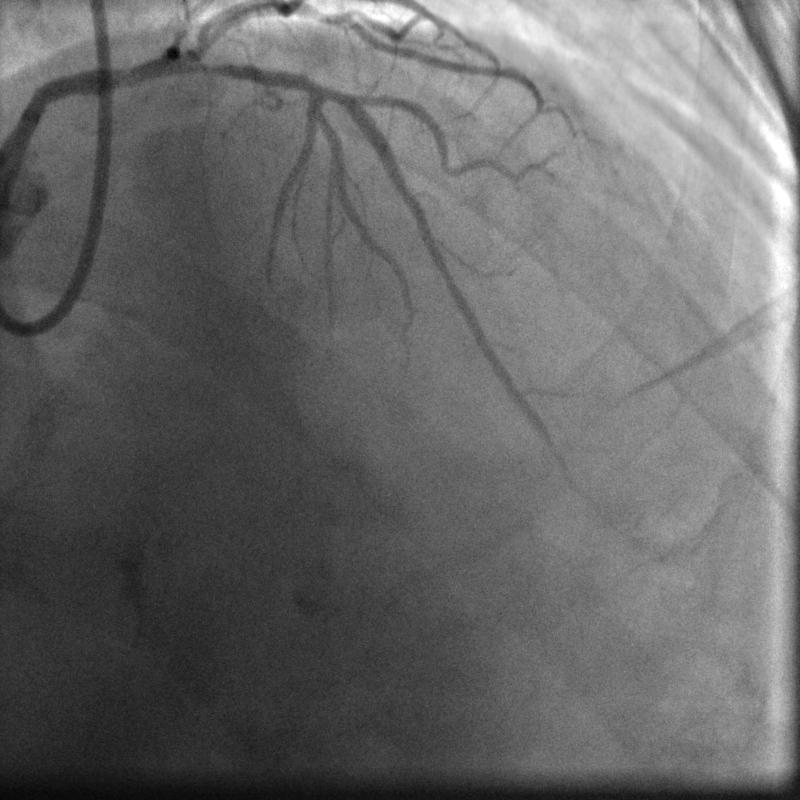Stenosis: (185, 57, 236, 79)
